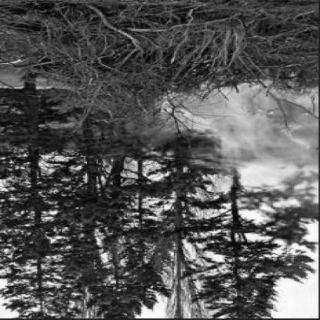Fire: (140, 63, 310, 183)
